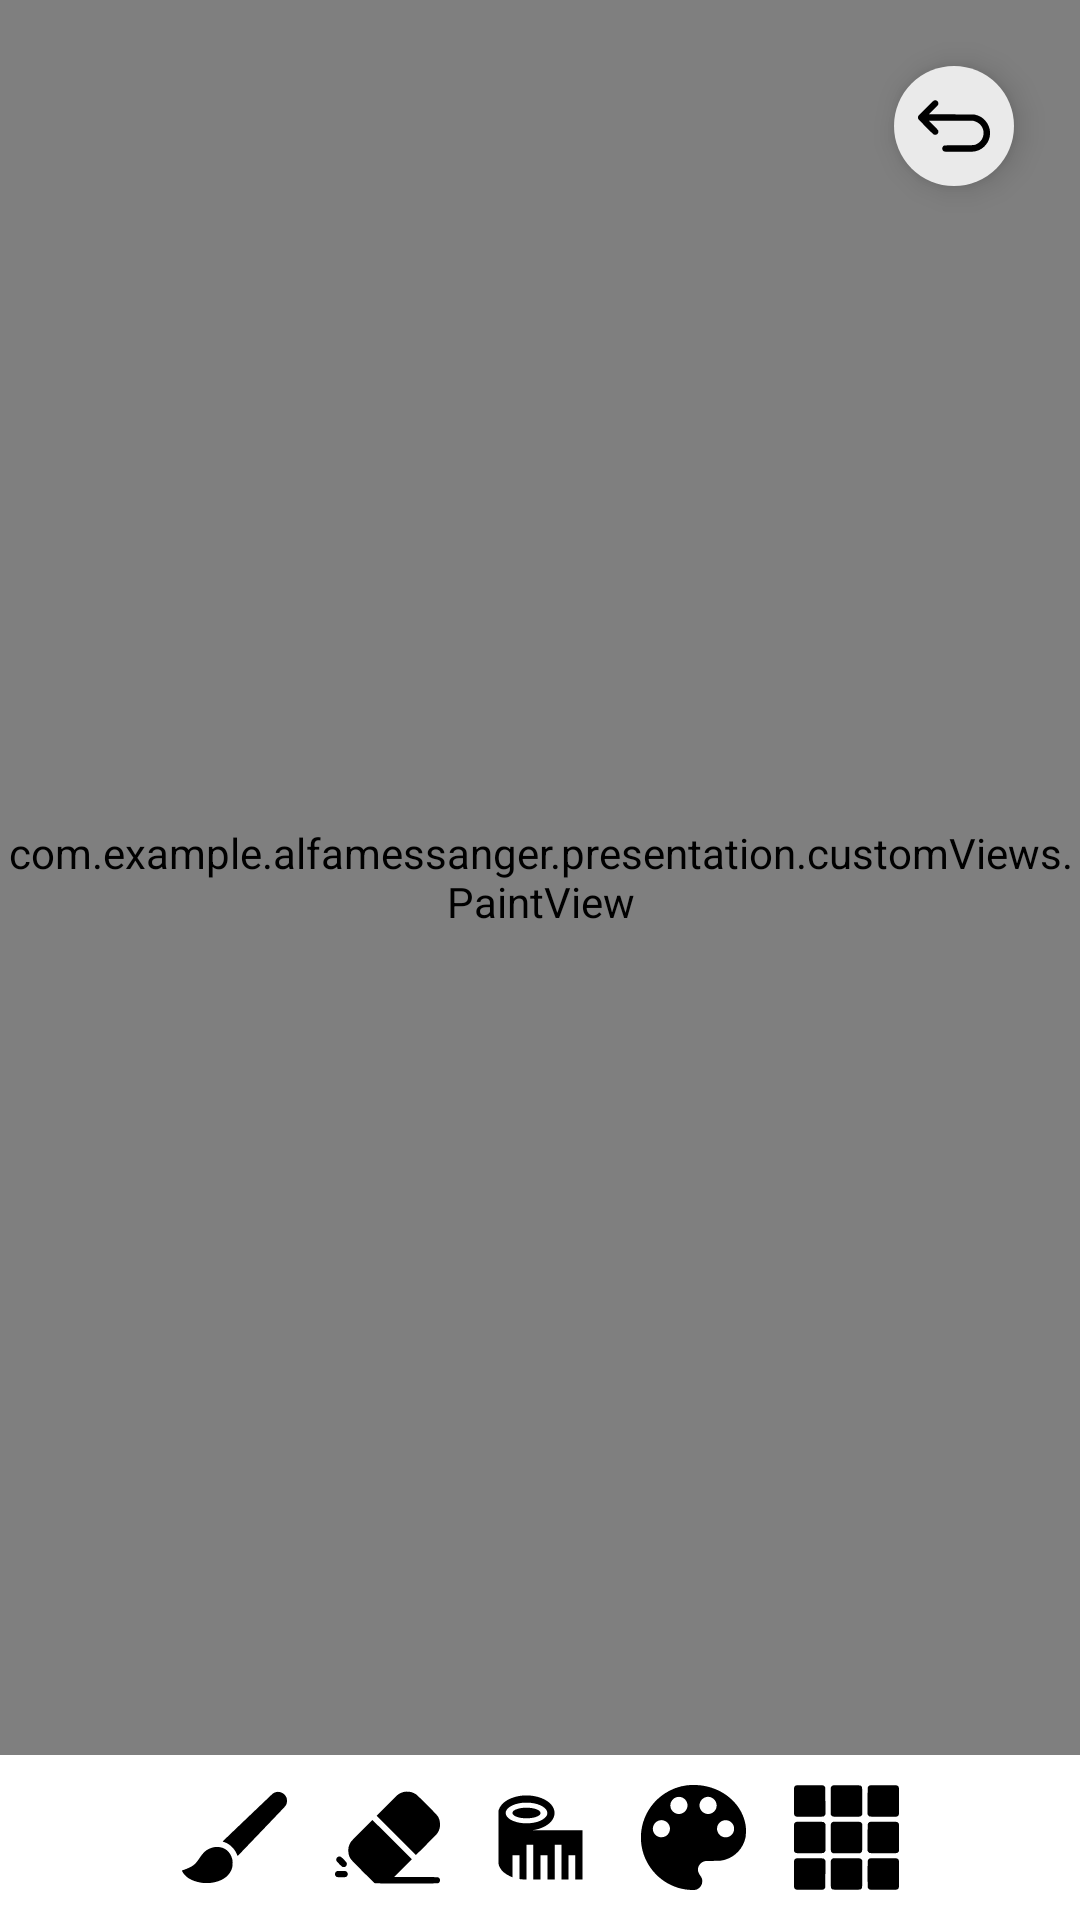

Icons on this 1080x1920 Android screen, each with its box as (x1, y1, x2, y2):
brush: (182, 1791, 287, 1883)
eraser: (335, 1791, 440, 1884)
palette: (641, 1785, 746, 1890)
return: (894, 66, 1014, 186)
tape: (498, 1795, 583, 1880)
